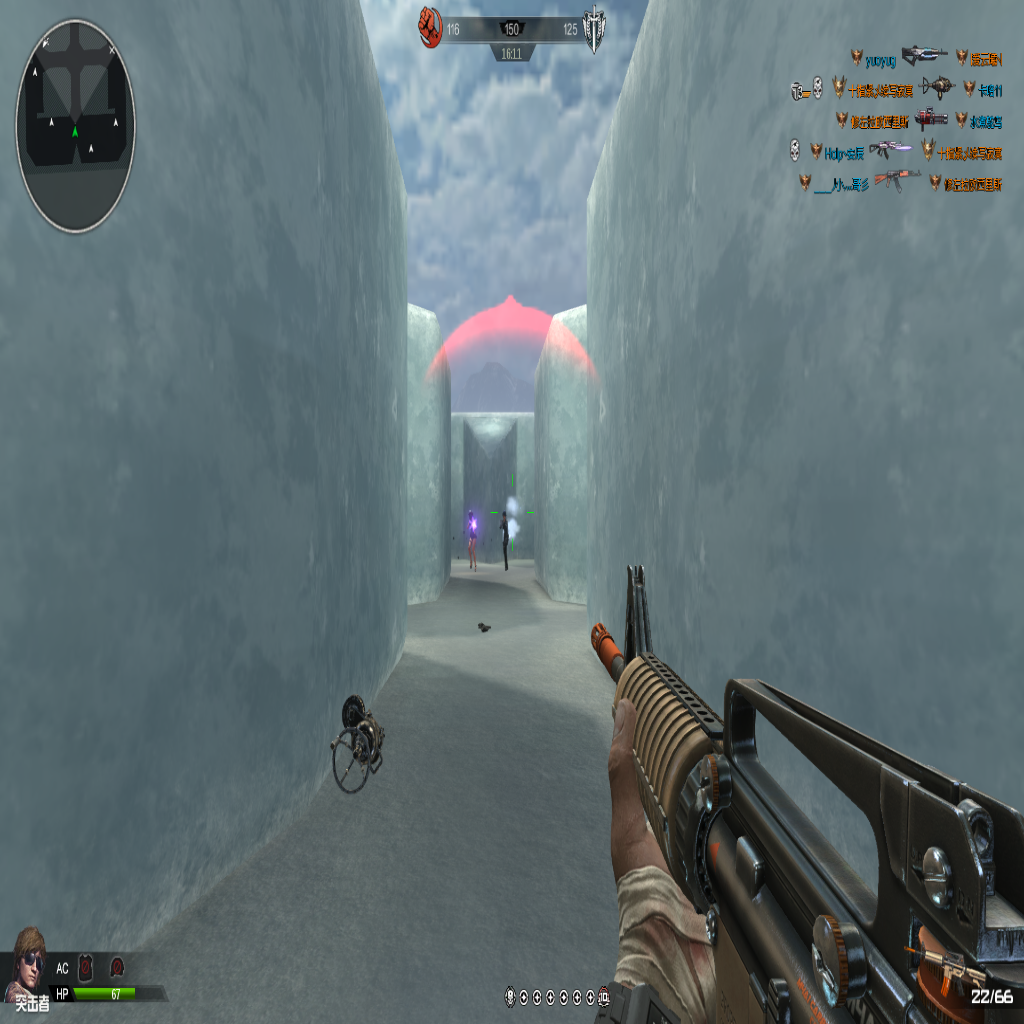ct: (467, 506, 478, 571), (500, 506, 511, 570)
